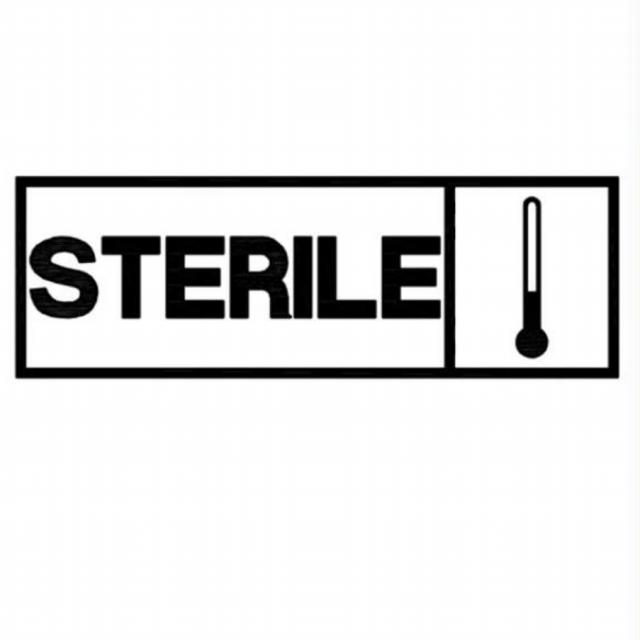Sterilized using steam: (19, 177, 623, 379)
